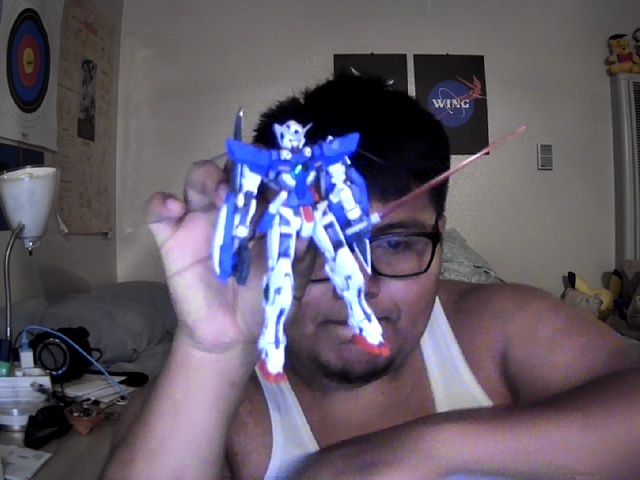Exia: (212, 107, 525, 384)
